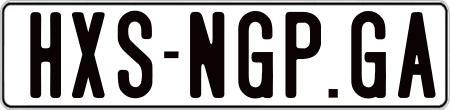A: (398, 12, 435, 104)
G: (237, 8, 277, 99), (350, 8, 388, 97)
H: (29, 9, 64, 100)
N: (190, 11, 226, 101)
P: (283, 12, 322, 102)
S: (117, 11, 155, 99)
X: (71, 11, 106, 98)
